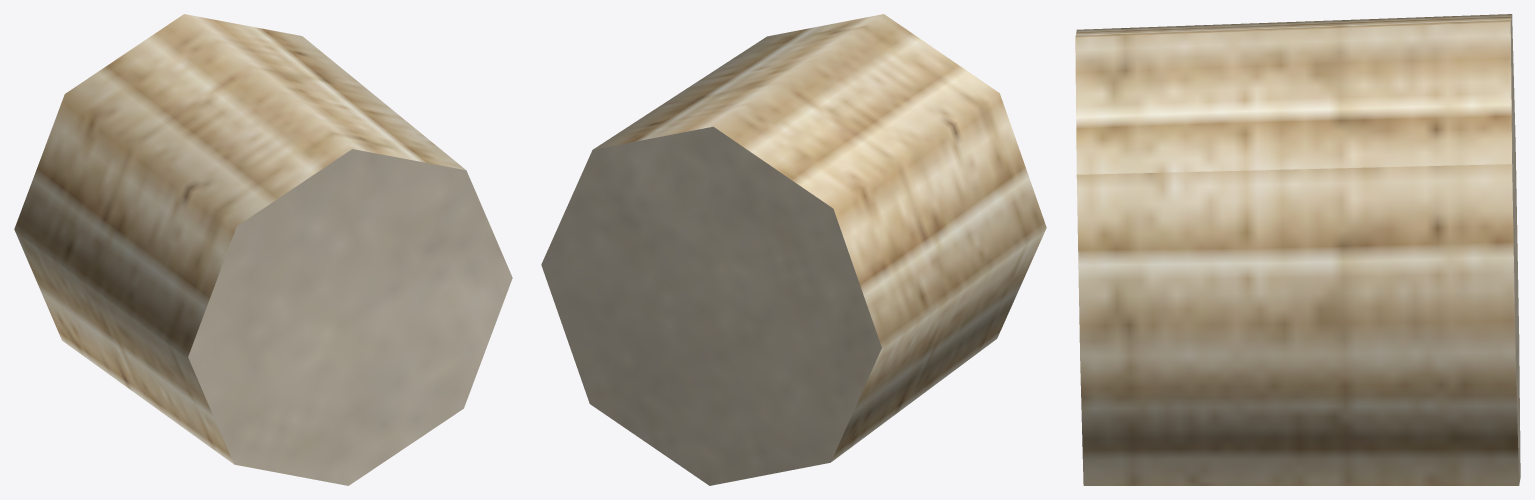
File: column_fallen_e.dae
3 renders of one model, left to right at view 1: azimuth 30°, elevation 25°; view 2: azimuth 150°, elevation 25°; view 3: azimuth 270°, elevation 25°, orthographic. The views are drawn at different scales.
Parts seen in each view (by area): view 1: column_fallen_e; view 2: column_fallen_e; view 3: column_fallen_e.
Part boxes in pixels (x1=…): column_fallen_e: x1=14, y1=14, x2=512, y2=485; column_fallen_e: x1=541, y1=14, x2=1046, y2=485; column_fallen_e: x1=1075, y1=14, x2=1520, y2=485.
Size of the model in its own units: 1.6 by 1.42 by 1.6.
